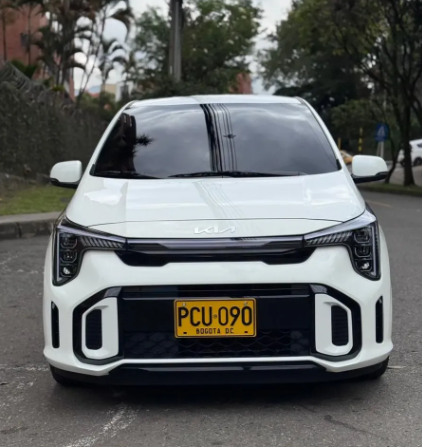placa: (173, 299, 256, 337)
